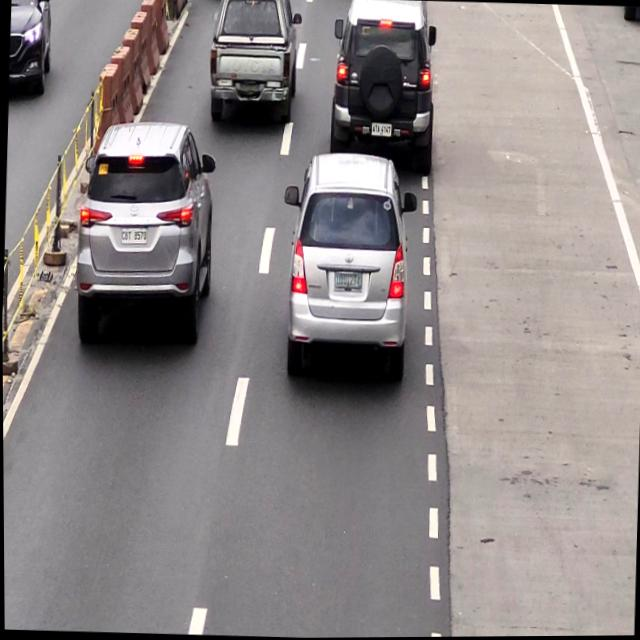Car: (71, 120, 212, 350), (289, 149, 410, 383), (329, 0, 438, 169), (208, 0, 301, 120)
License-Plate: (333, 271, 362, 296), (118, 226, 148, 247), (369, 121, 394, 140)
